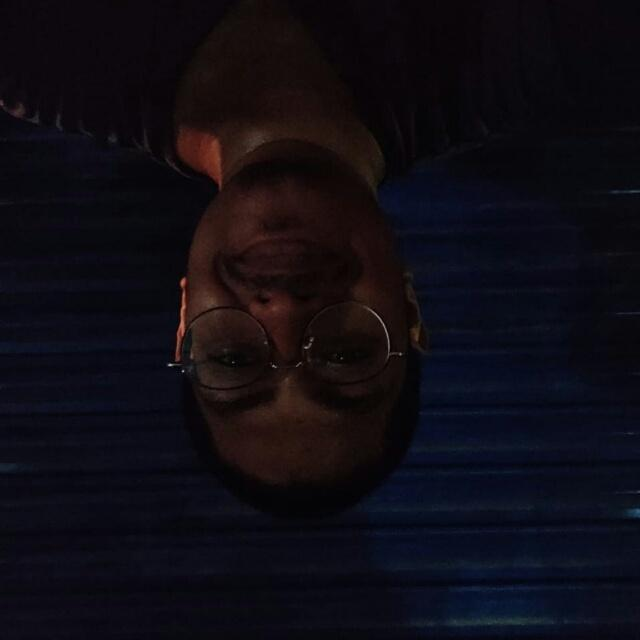Happy: (147, 113, 446, 562)
